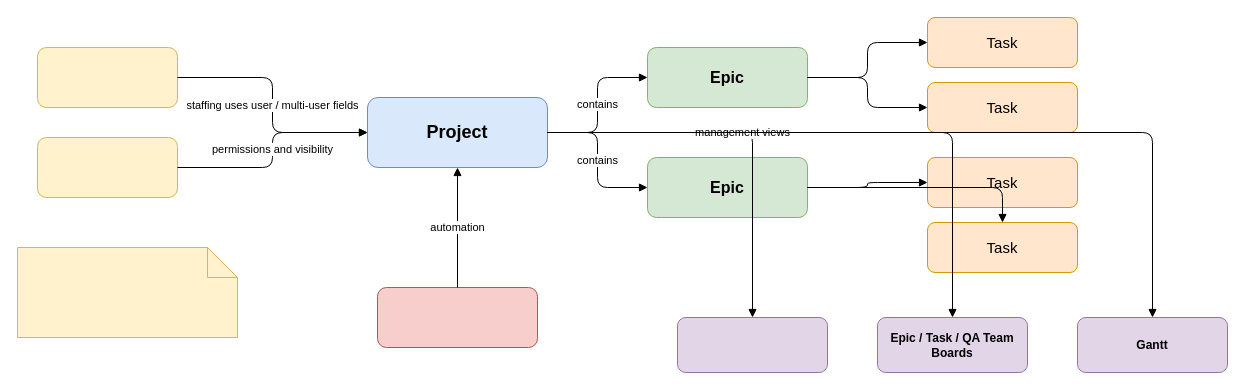
This 1245x390 diagram has some shape labels left out. Here are the shapes that lost their labels. From the top down, the box of each, then its label:
(36, 46, 178, 108): Origami Users
(36, 136, 178, 198): Origami Groups
(16, 246, 238, 338): Origami custom fields cannot point to a Group
(376, 286, 538, 348): Origami Workflows
(676, 316, 828, 372): Executive Dashboard
